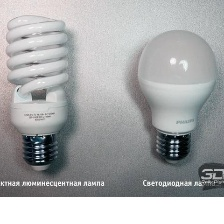light_bulb: (134, 23, 222, 171), (0, 10, 76, 175)
